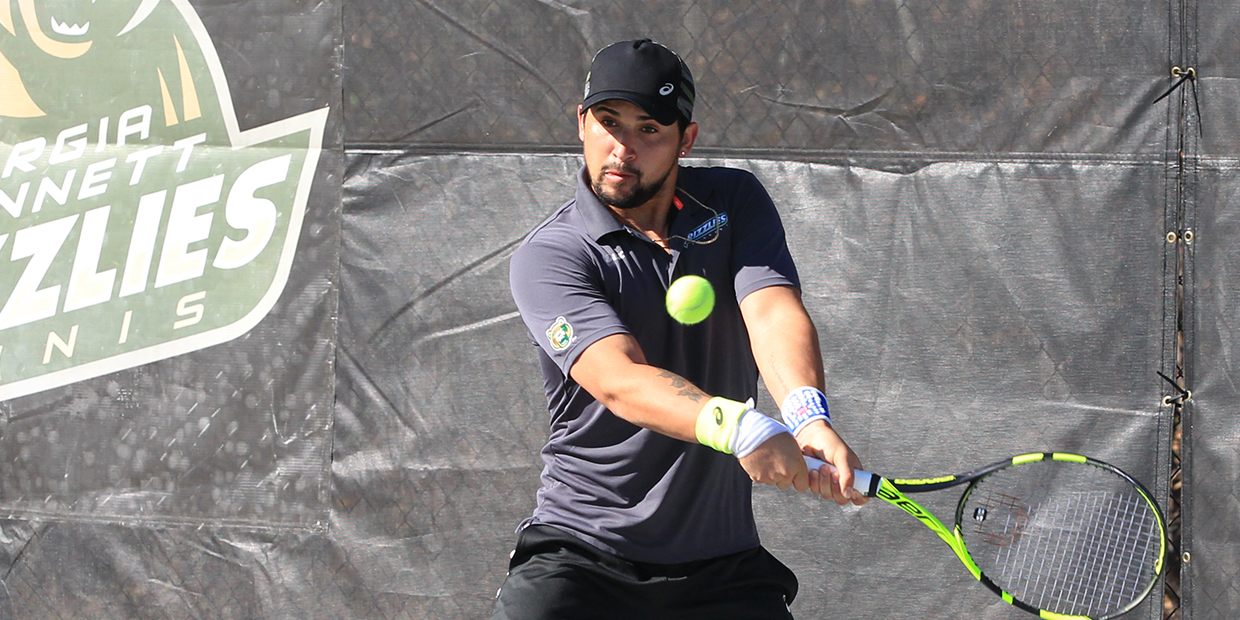tennis ball: (662, 272, 714, 326)
tennis player: (504, 40, 855, 620)
